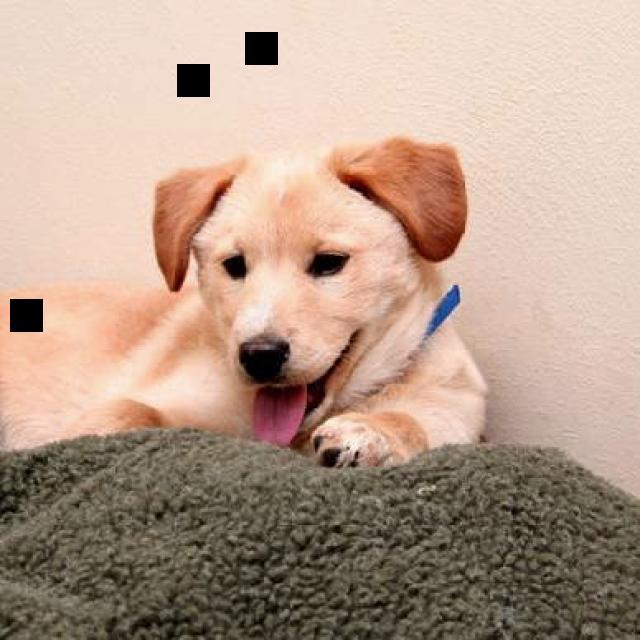puppy-dog: (1, 135, 493, 467)
